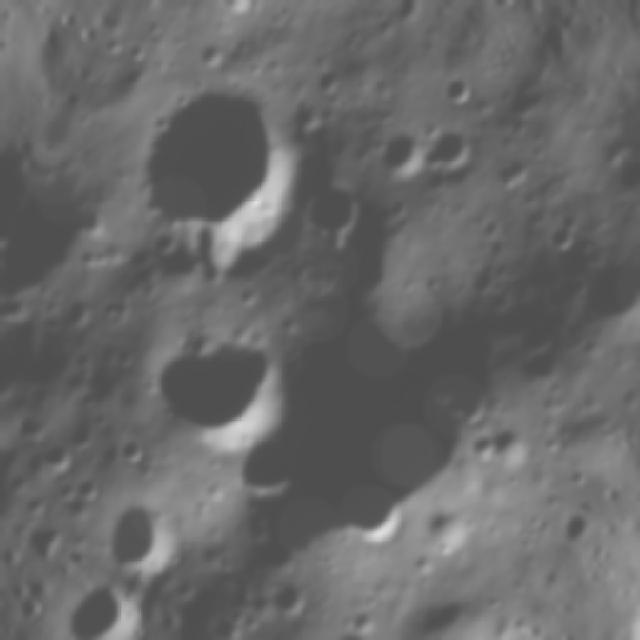crater: (97, 50, 320, 288), (117, 292, 305, 479), (547, 224, 640, 347), (89, 481, 197, 585), (296, 157, 382, 248), (405, 485, 487, 563), (456, 406, 536, 483), (361, 118, 428, 187), (418, 117, 482, 180), (260, 568, 314, 623), (424, 59, 478, 113), (107, 425, 155, 473), (315, 612, 394, 640), (13, 402, 53, 446), (37, 437, 78, 477), (552, 500, 585, 545), (68, 466, 104, 505), (65, 416, 102, 453)
